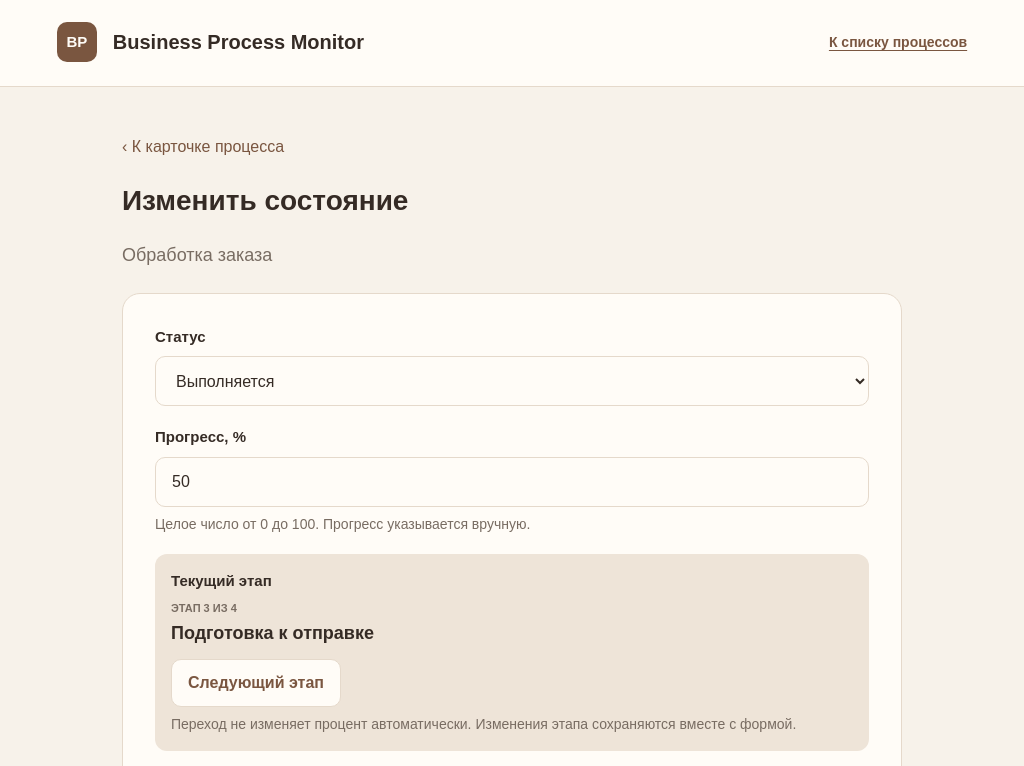
R2 / FE-017: сохранение и восстановление › P02: отказ localStorage сохраняет черновик и прежние данные без ложного успеха
Click the button "Следующий этап" at (256, 683), box [171,659,341,707]
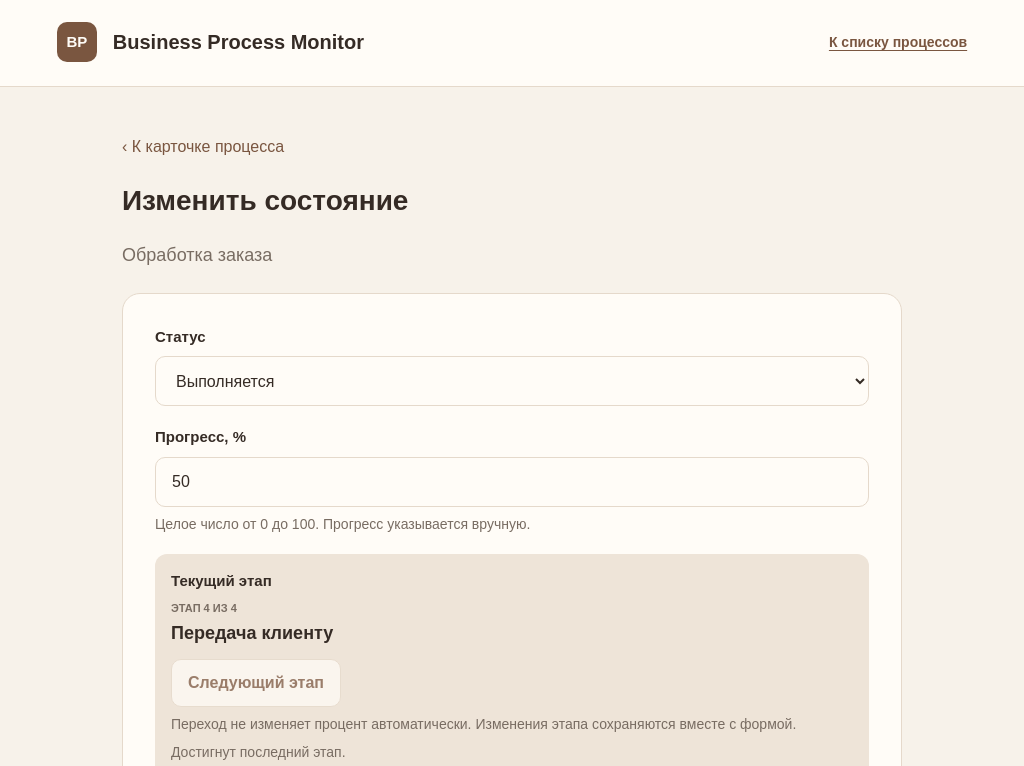
Select "Заблокирован" in the dropdown labelled "Статус" at (512, 381), box [155,356,869,406]
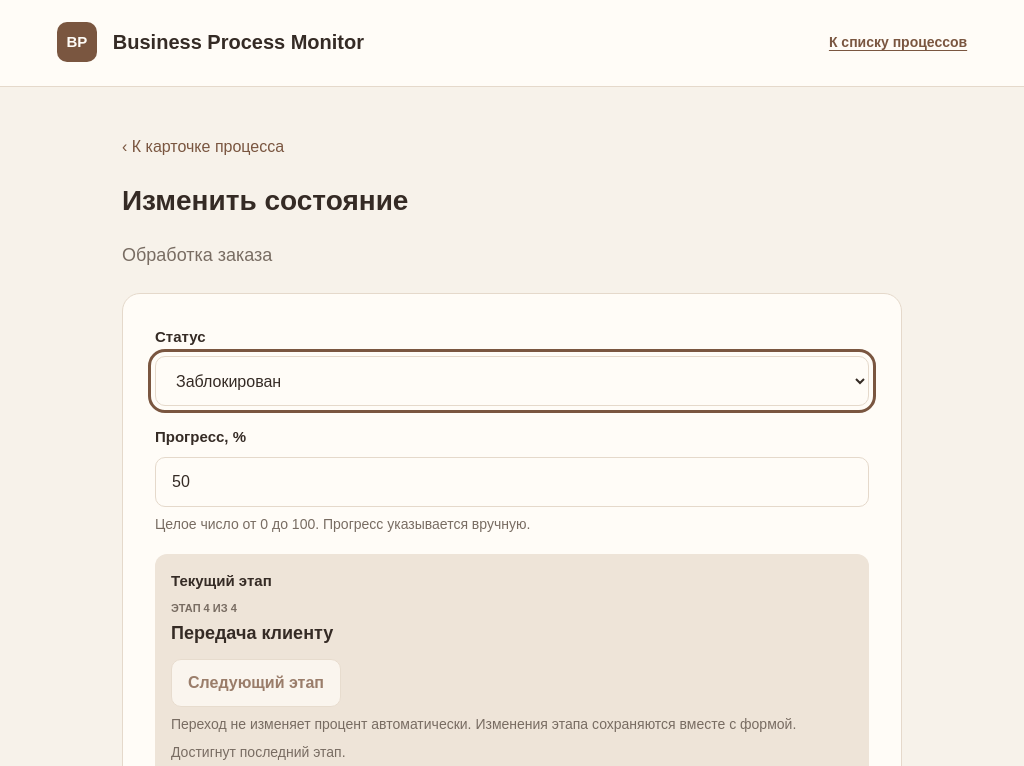
Replace the text in the field labelled "Прогресс, %" with "65" at (512, 482), box [155,457,869,507]
(page scrolled)
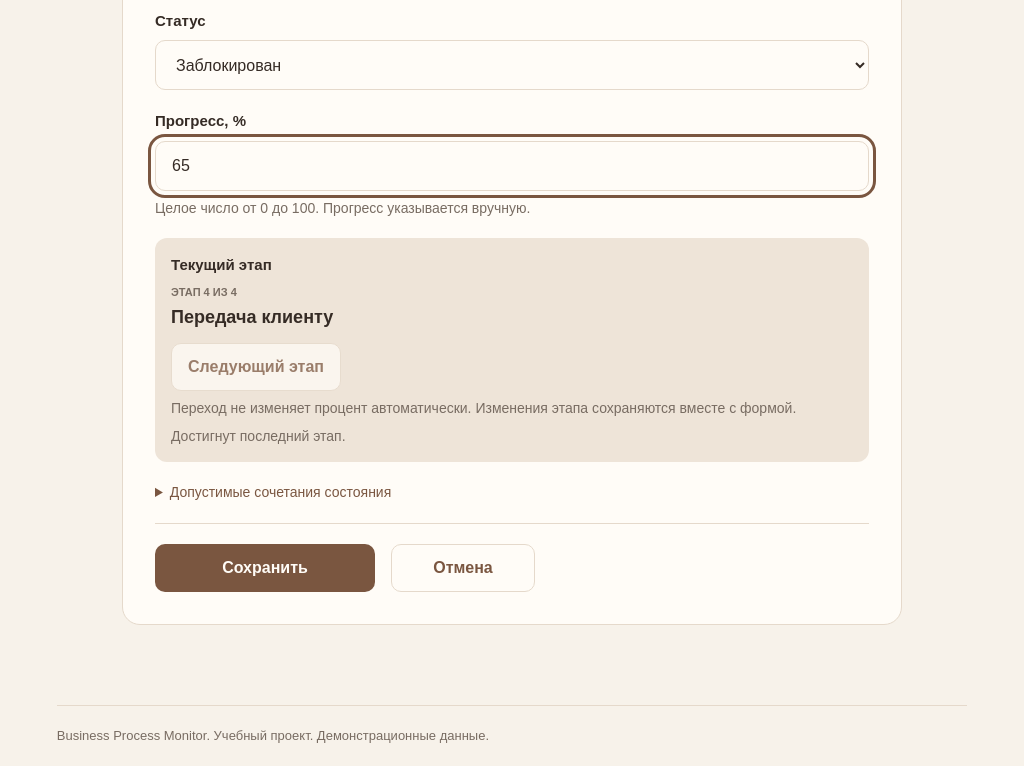
Click the button "Сохранить" at (265, 568), box [155,544,375,592]
(page scrolled)
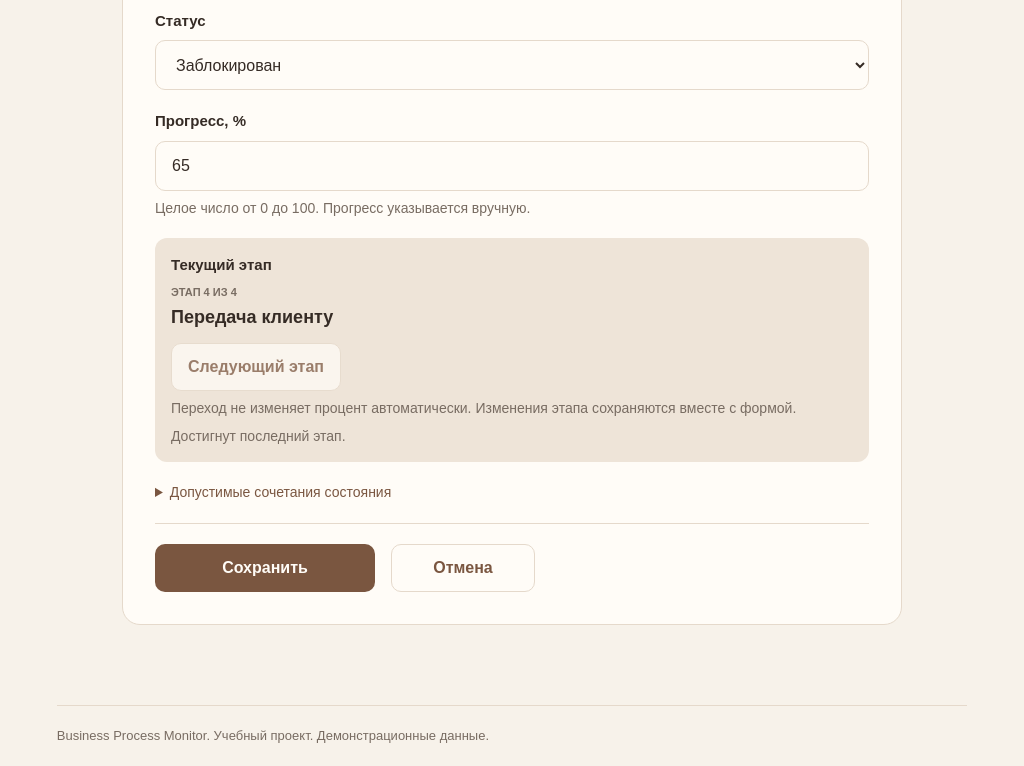
Check: the text "Этап 4 из 4" is shown, box [171,286,237,298]
Click the link "Отмена" at (463, 568), box [391,544,535,592]
(page scrolled)
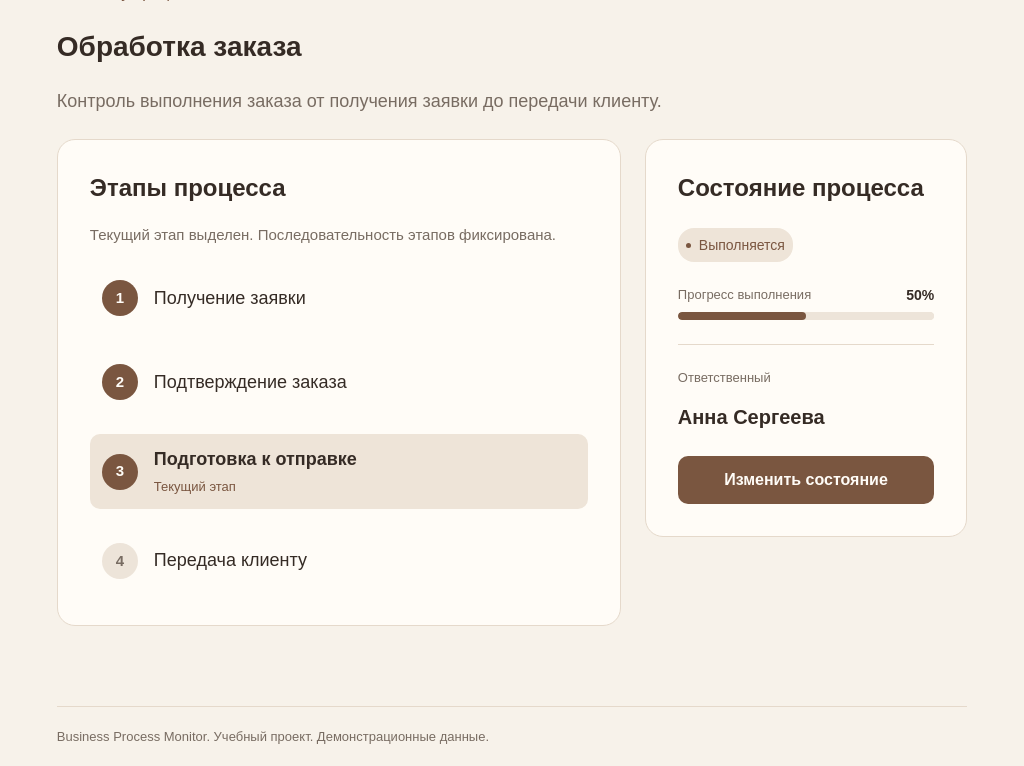
Check: the text "Выполняется" is shown, box [678,228,793,262]
Check: the list item "3 Подготовка к отправке Текущий этап" is shown, box [90,434,588,509]
